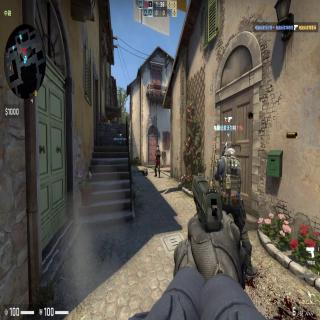T-Body: (154, 144, 160, 178)
T-Head: (156, 144, 159, 150)
